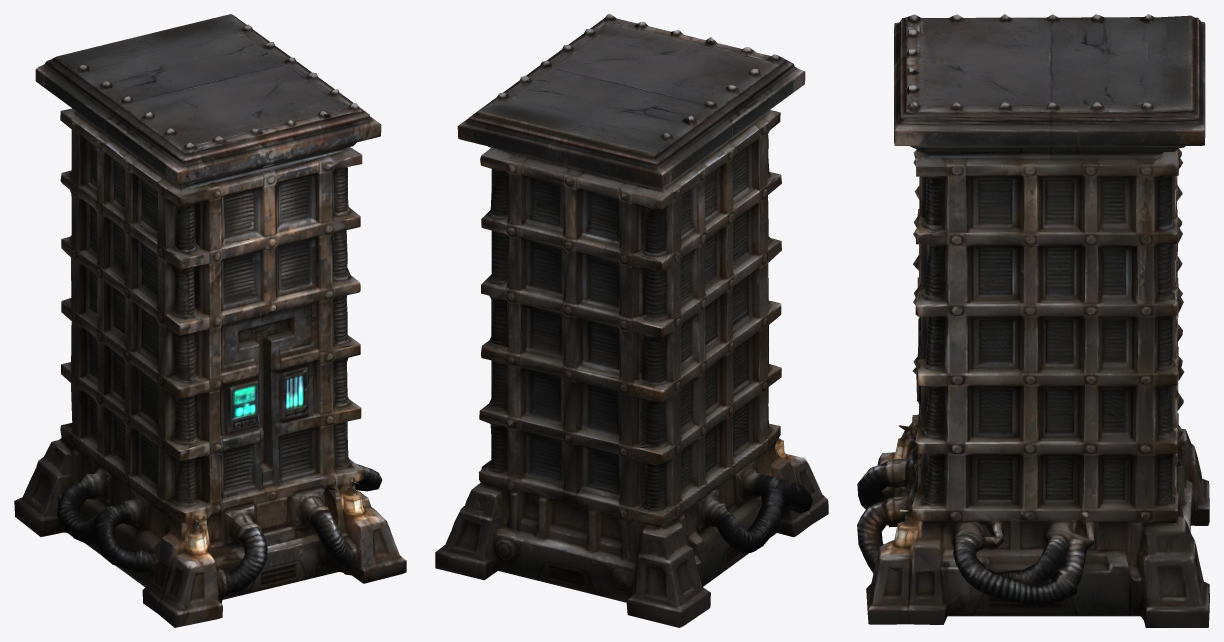
The model's file is tower_cage.glb.
3 views of the same model, side by side, from view 1: azimuth 30°, elevation 25°; view 2: azimuth 150°, elevation 25°; view 3: azimuth 270°, elevation 25° (orthographic). The views are drawn at different scales.
Visible parts, largest first — view 1: tower_cage; view 2: tower_cage; view 3: tower_cage.
Boxes of the visible parts, box(x1,y1,x2,y2) form: tower_cage: box(14, 14, 406, 627); tower_cage: box(435, 14, 828, 627); tower_cage: box(857, 14, 1209, 627).
Size of the model in its own units: 4.16 by 6.41 by 4.04.
Materials: 1 (1 with a texture image).
